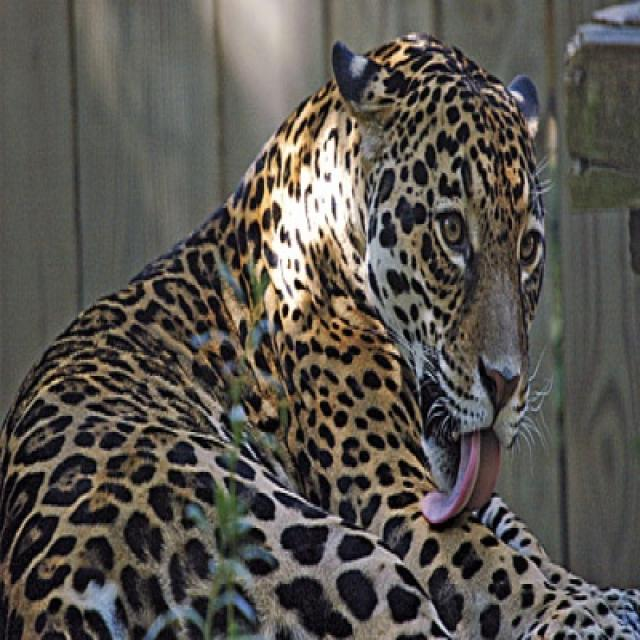Jaguar: (0, 36, 636, 638)
